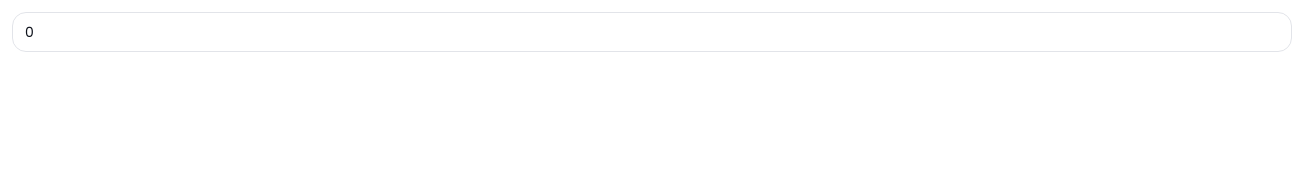
Scenario: FitInput › keeps an empty numeric draft editable even when the parent normalises it to zero
Clear the number field named "Prix" at (652, 32), box [12,12,1292,52]
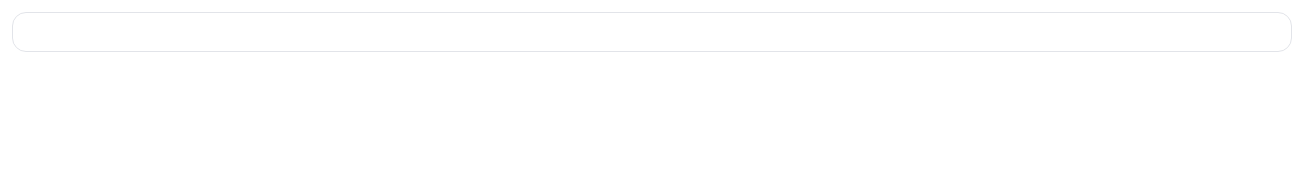
Type "1500" into the number field named "Prix".
click(652, 32); type("1500")  # box [12,12,1292,52]
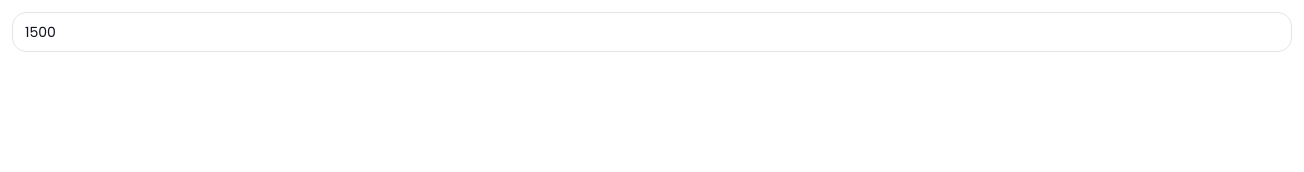
Clear the number field named "Prix" at (652, 32), box [12,12,1292,52]
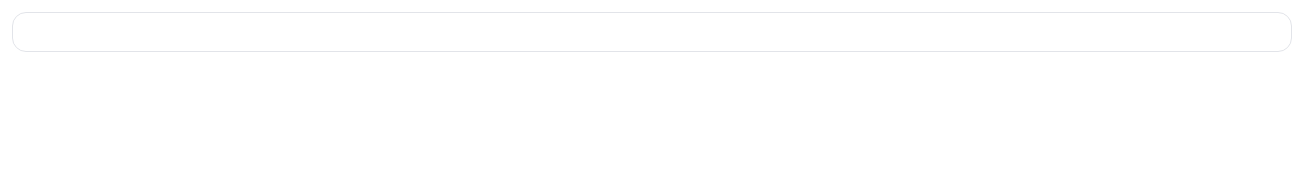
Leave the number field named "Prix", box [12,12,1292,52]
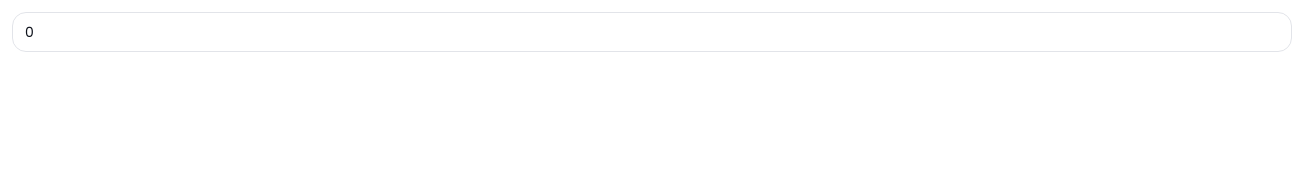
Expected: the number field named "Prix" holds "0", [12,12,1292,52]
